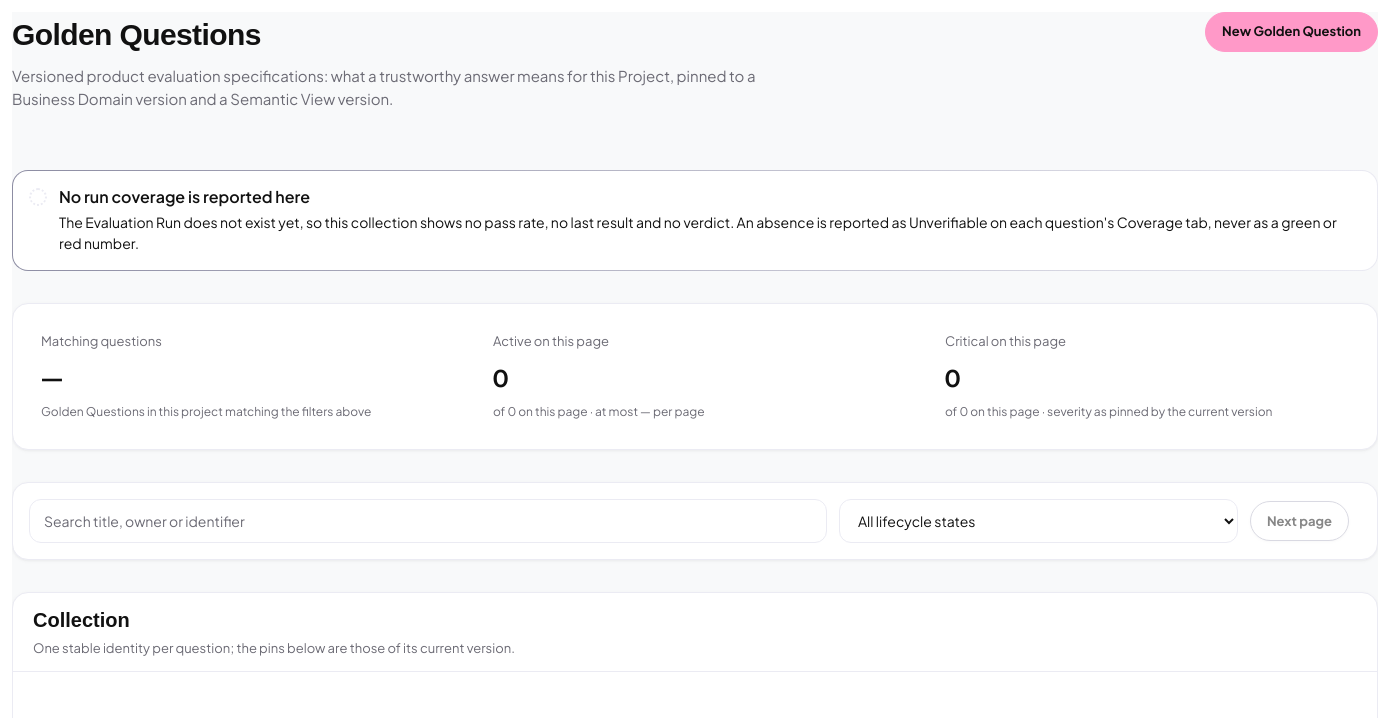
shows the server's structured refusal and sends no Render pin
Step 1. Click the button "New Golden Question" → x=1292, y=32, box [1205,12,1378,52]
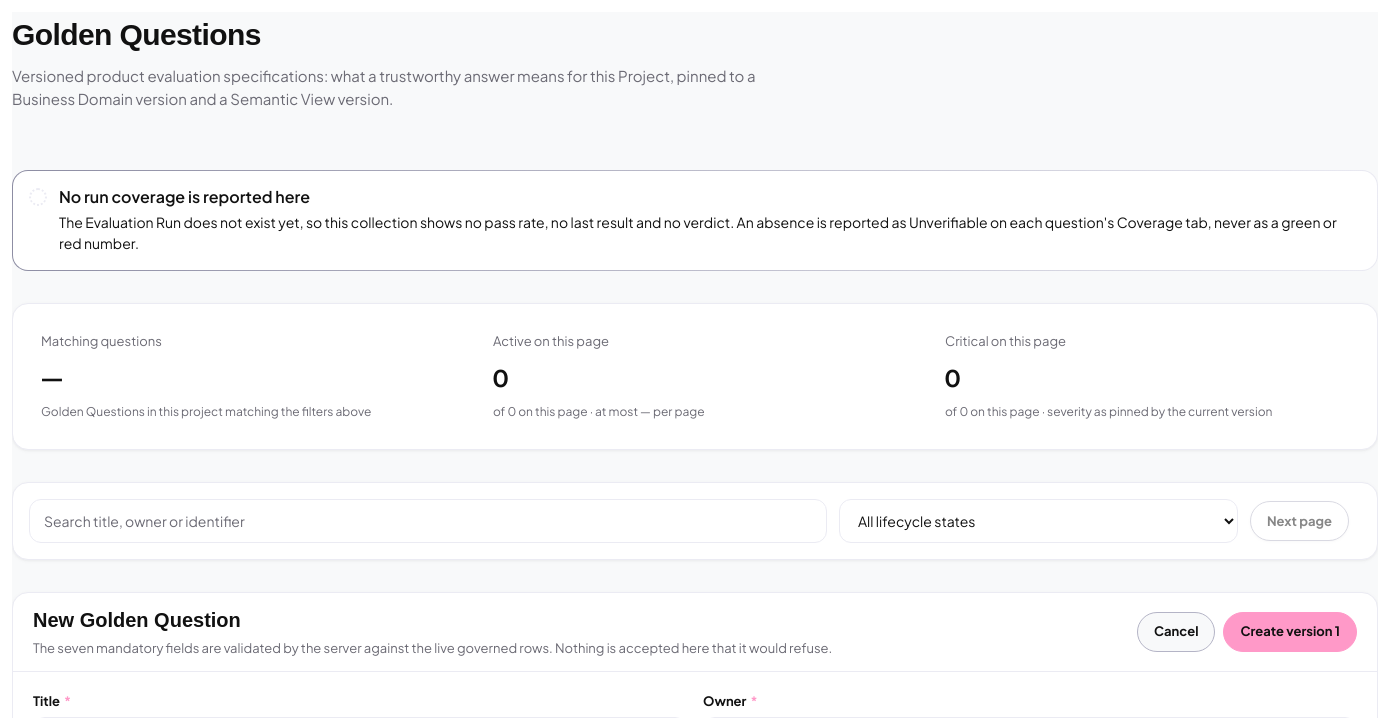
Step 2. Click the button with test id "golden-question-create-save" → x=1290, y=632, box [1223,612,1357,652]
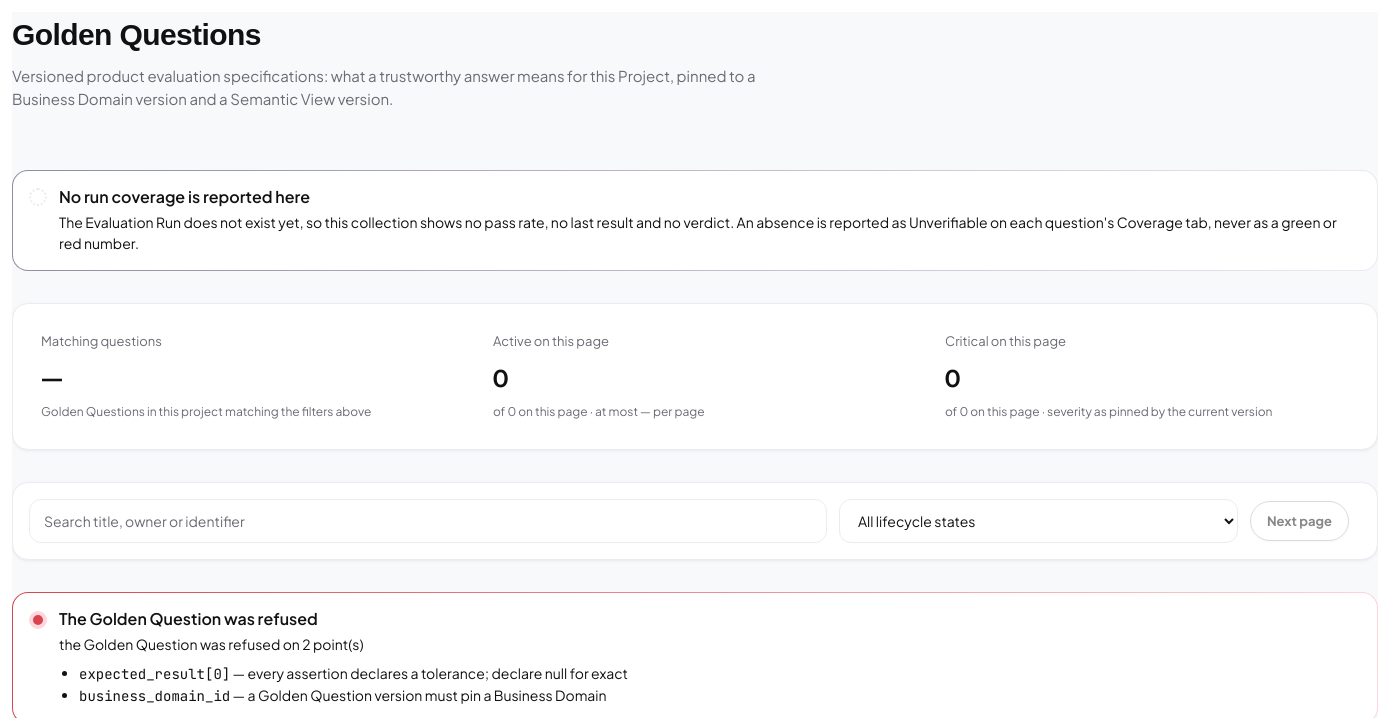
expect the message with test id "golden-question-refusal" shows "expected_result[0]": met, box [79,665,230,683]
expect the message with test id "golden-question-refusal" shows "business_domain_id": met, box [79,687,230,705]
